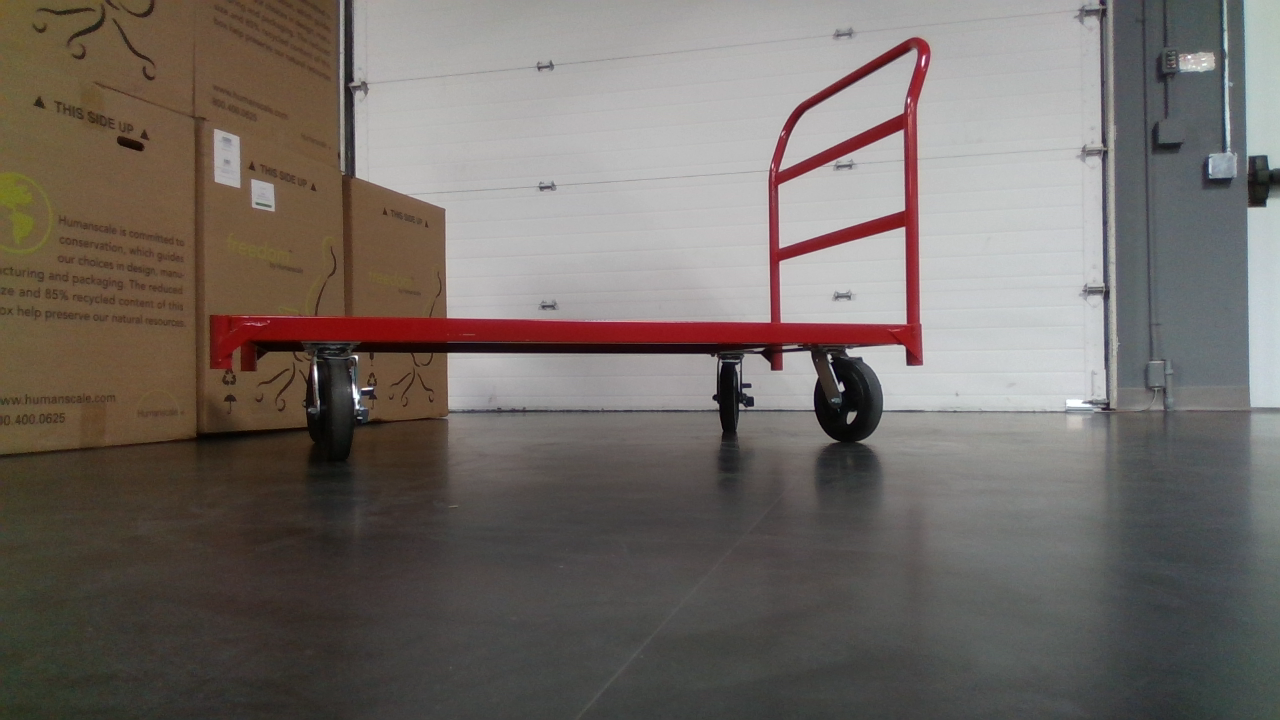Dolly: (204, 32, 939, 473)
Wheel: (811, 355, 887, 445), (313, 353, 357, 465), (715, 359, 746, 437)
